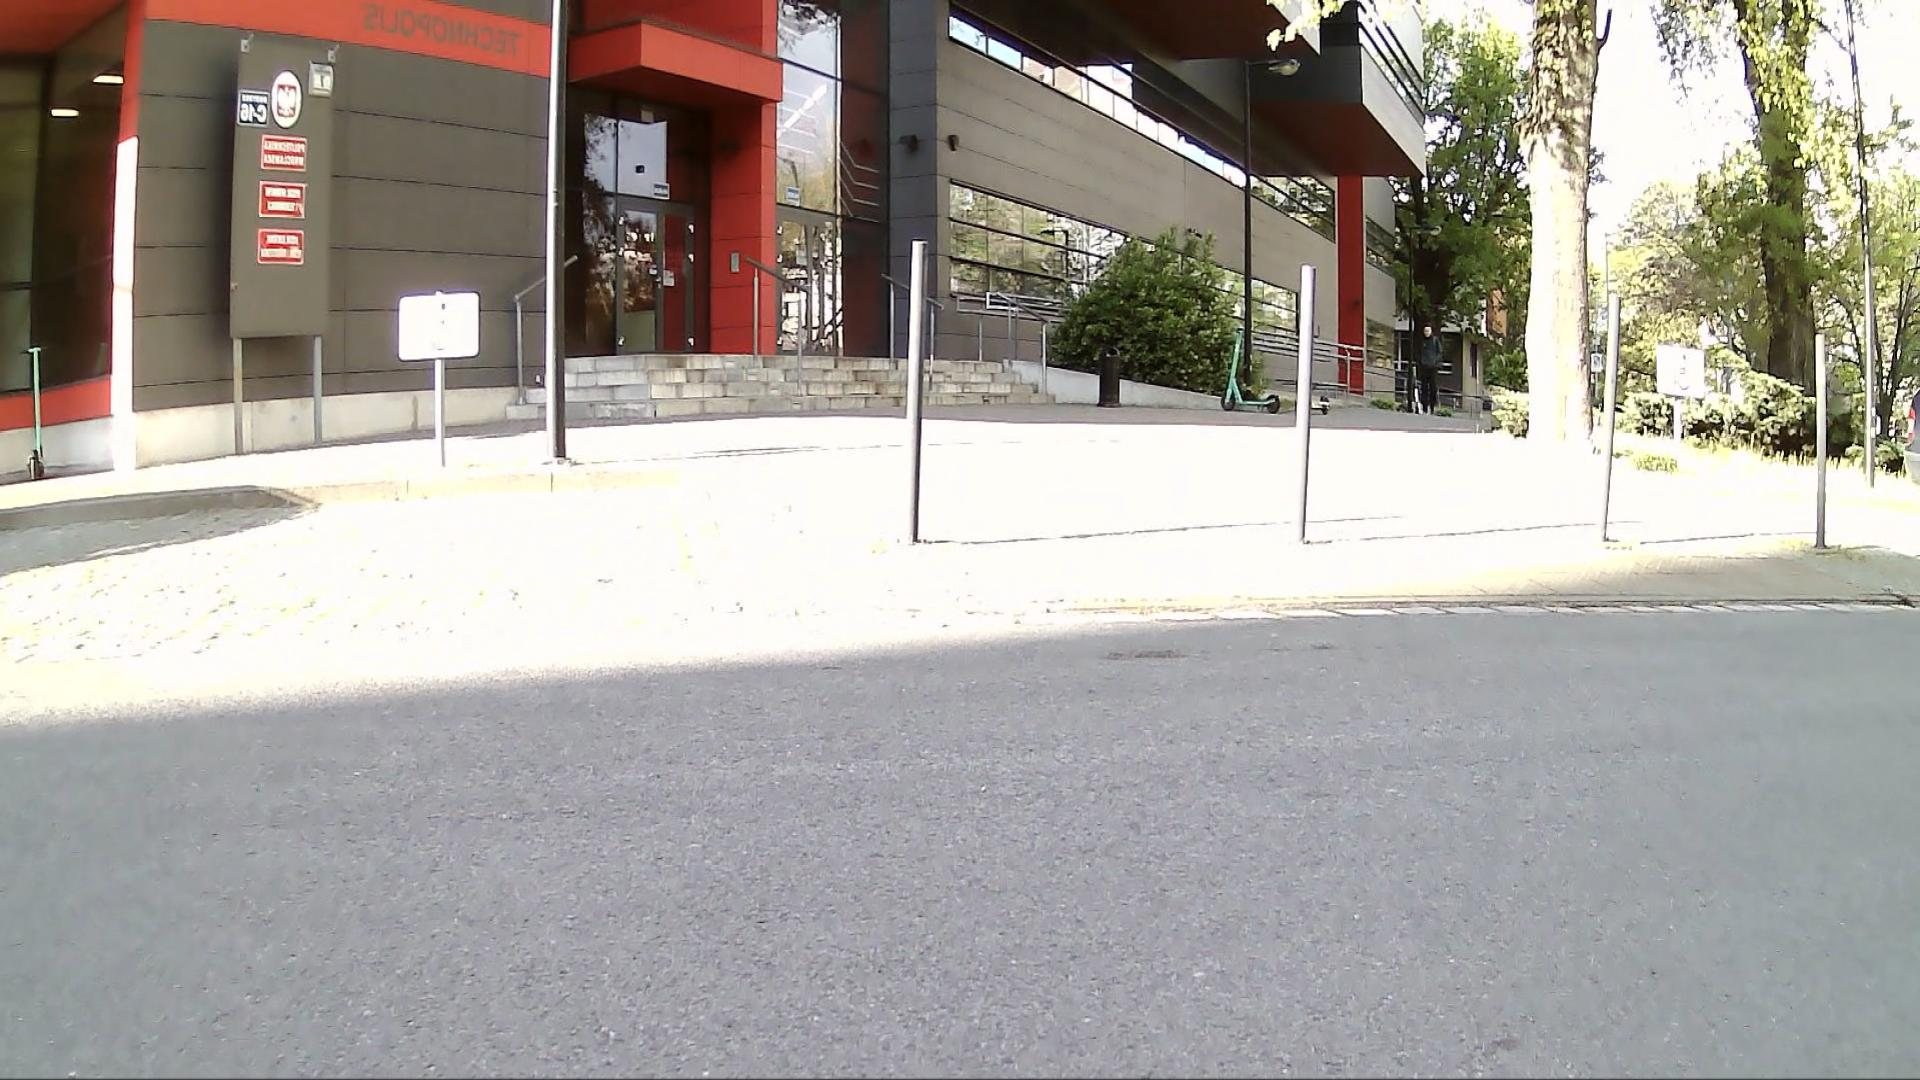bollards: (893, 236, 934, 550), (1278, 261, 1321, 549), (1588, 291, 1627, 550), (1805, 327, 1829, 554)
